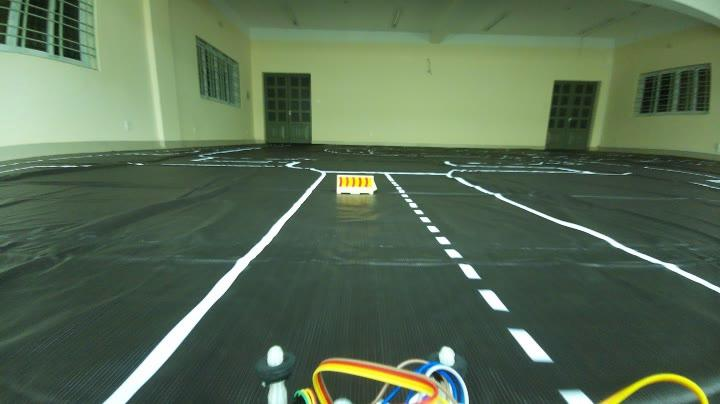roadblock: (331, 168, 380, 206)
